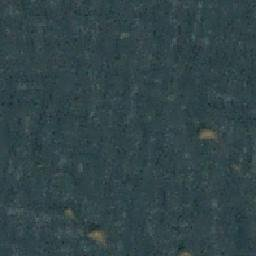debris: (84, 227, 105, 242), (199, 127, 216, 141)
